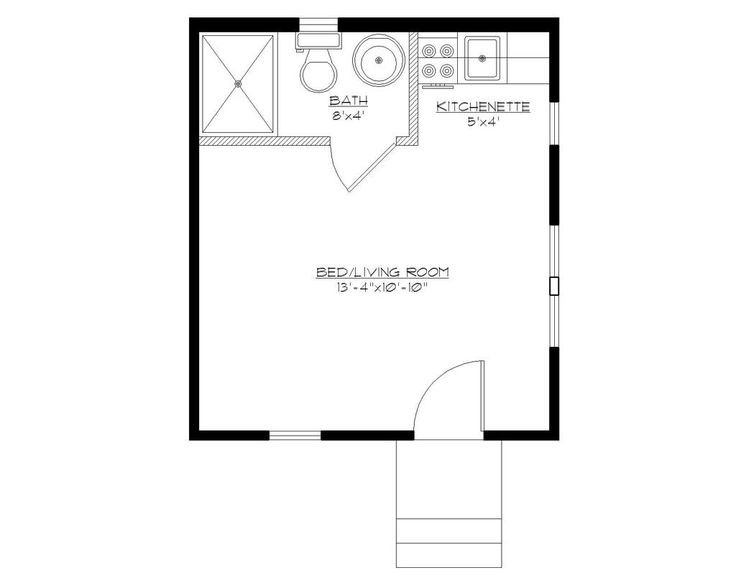door: (413, 339, 491, 442), (320, 130, 395, 195)
room: (190, 10, 567, 440)
wall: (181, 7, 201, 439), (339, 14, 560, 34), (192, 10, 303, 36), (548, 344, 569, 446), (321, 426, 409, 449), (548, 144, 568, 229), (198, 425, 269, 446), (487, 427, 554, 446), (547, 34, 557, 102)
window: (543, 225, 570, 349), (544, 96, 569, 149), (270, 427, 327, 444)
